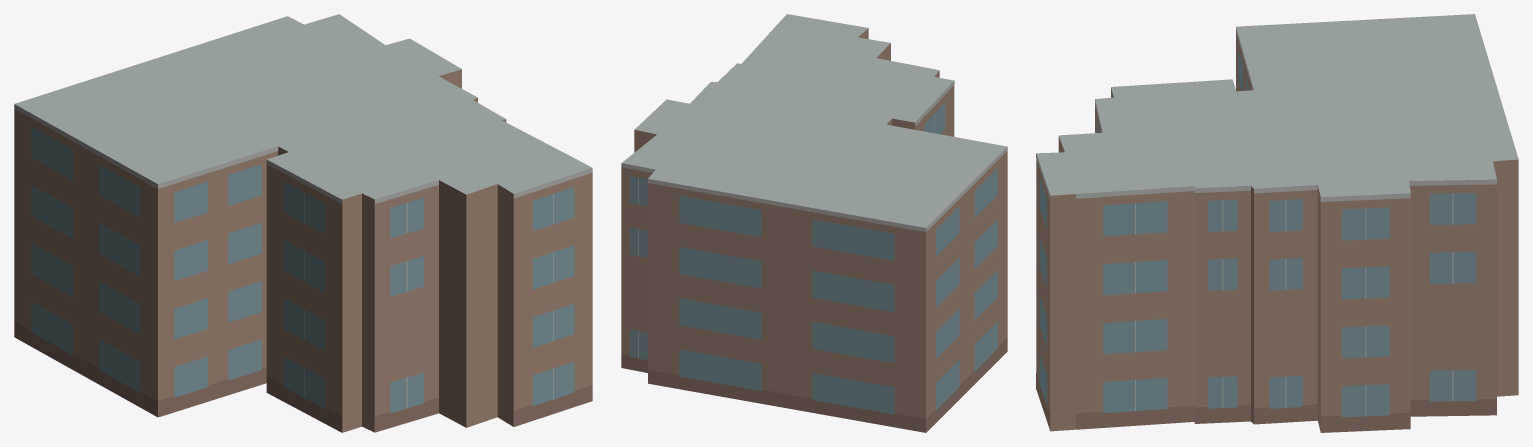
File: survey-upis-33035586.glb
3 views of the same model, side by side, from view 1: azimuth 30°, elevation 25°; view 2: azimuth 150°, elevation 25°; view 3: azimuth 270°, elevation 25° (orthographic). The views are drawn at different scales.
Parts seen in each view (by area): view 1: survey-upis-33035586.tmp; view 2: survey-upis-33035586.tmp; view 3: survey-upis-33035586.tmp.
Part boxes in pixels (x1,y1,x2,y2): survey-upis-33035586.tmp: [14, 14, 592, 432]; survey-upis-33035586.tmp: [621, 14, 1007, 432]; survey-upis-33035586.tmp: [1036, 14, 1518, 432].
Size of the model in its own units: 20.02 by 12 by 22.28.
